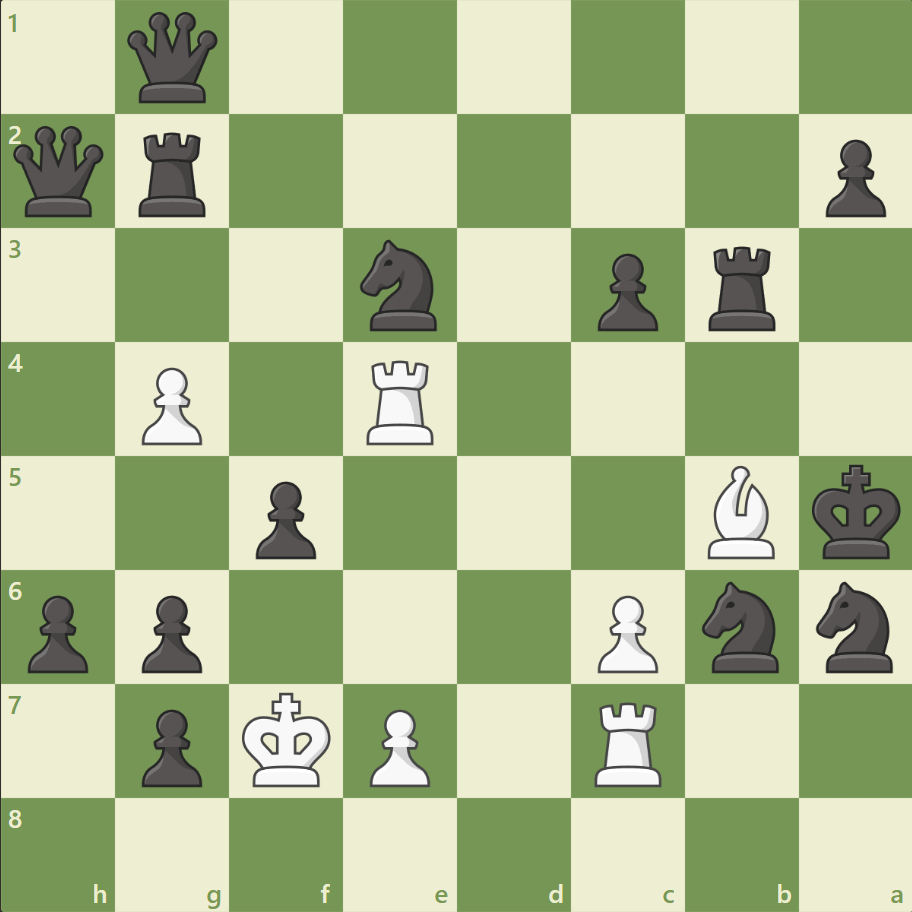B: (698, 460, 782, 563)
K: (238, 685, 338, 793)
P: (133, 359, 208, 450), (361, 700, 435, 791), (588, 586, 662, 677)
R: (587, 693, 670, 790), (360, 352, 442, 449)
k: (806, 458, 906, 566)
n: (351, 234, 449, 337), (806, 575, 903, 677), (692, 575, 789, 677)
p: (133, 700, 208, 791), (133, 586, 208, 677), (20, 586, 95, 677), (247, 473, 322, 564), (588, 246, 662, 337), (815, 132, 889, 223)
q: (10, 122, 109, 222), (124, 9, 223, 108)
r: (700, 239, 783, 336), (133, 125, 215, 222)
